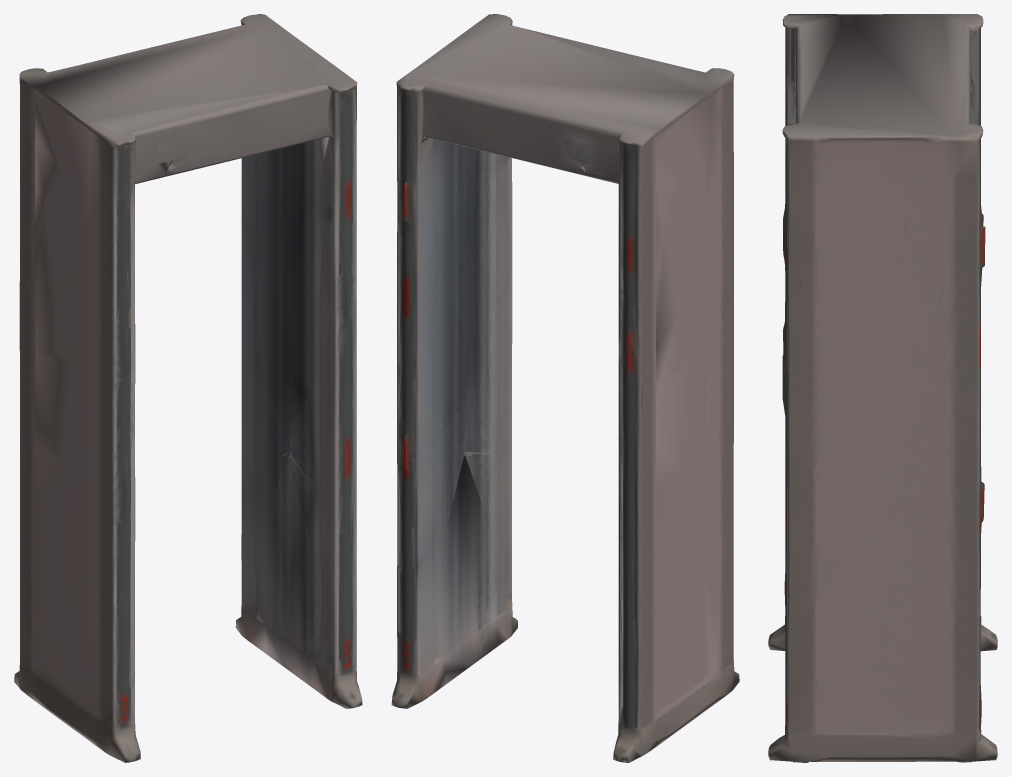
Rendered from secdoor.glb.
3 views of the same model, side by side, from view 1: azimuth 30°, elevation 25°; view 2: azimuth 150°, elevation 25°; view 3: azimuth 270°, elevation 25° (orthographic).
Parts seen in each view (by area): view 1: tripo_node_fccd5565; view 2: tripo_node_fccd5565; view 3: tripo_node_fccd5565.
Part boxes in pixels (box(x1,y1,x2,y2)): tripo_node_fccd5565: box(14, 14, 362, 762); tripo_node_fccd5565: box(391, 14, 739, 762); tripo_node_fccd5565: box(768, 14, 997, 762).
Bounding box in the file's own units: 41.71 × 100 × 33.08.
Materials: 1 (1 with a texture image).
